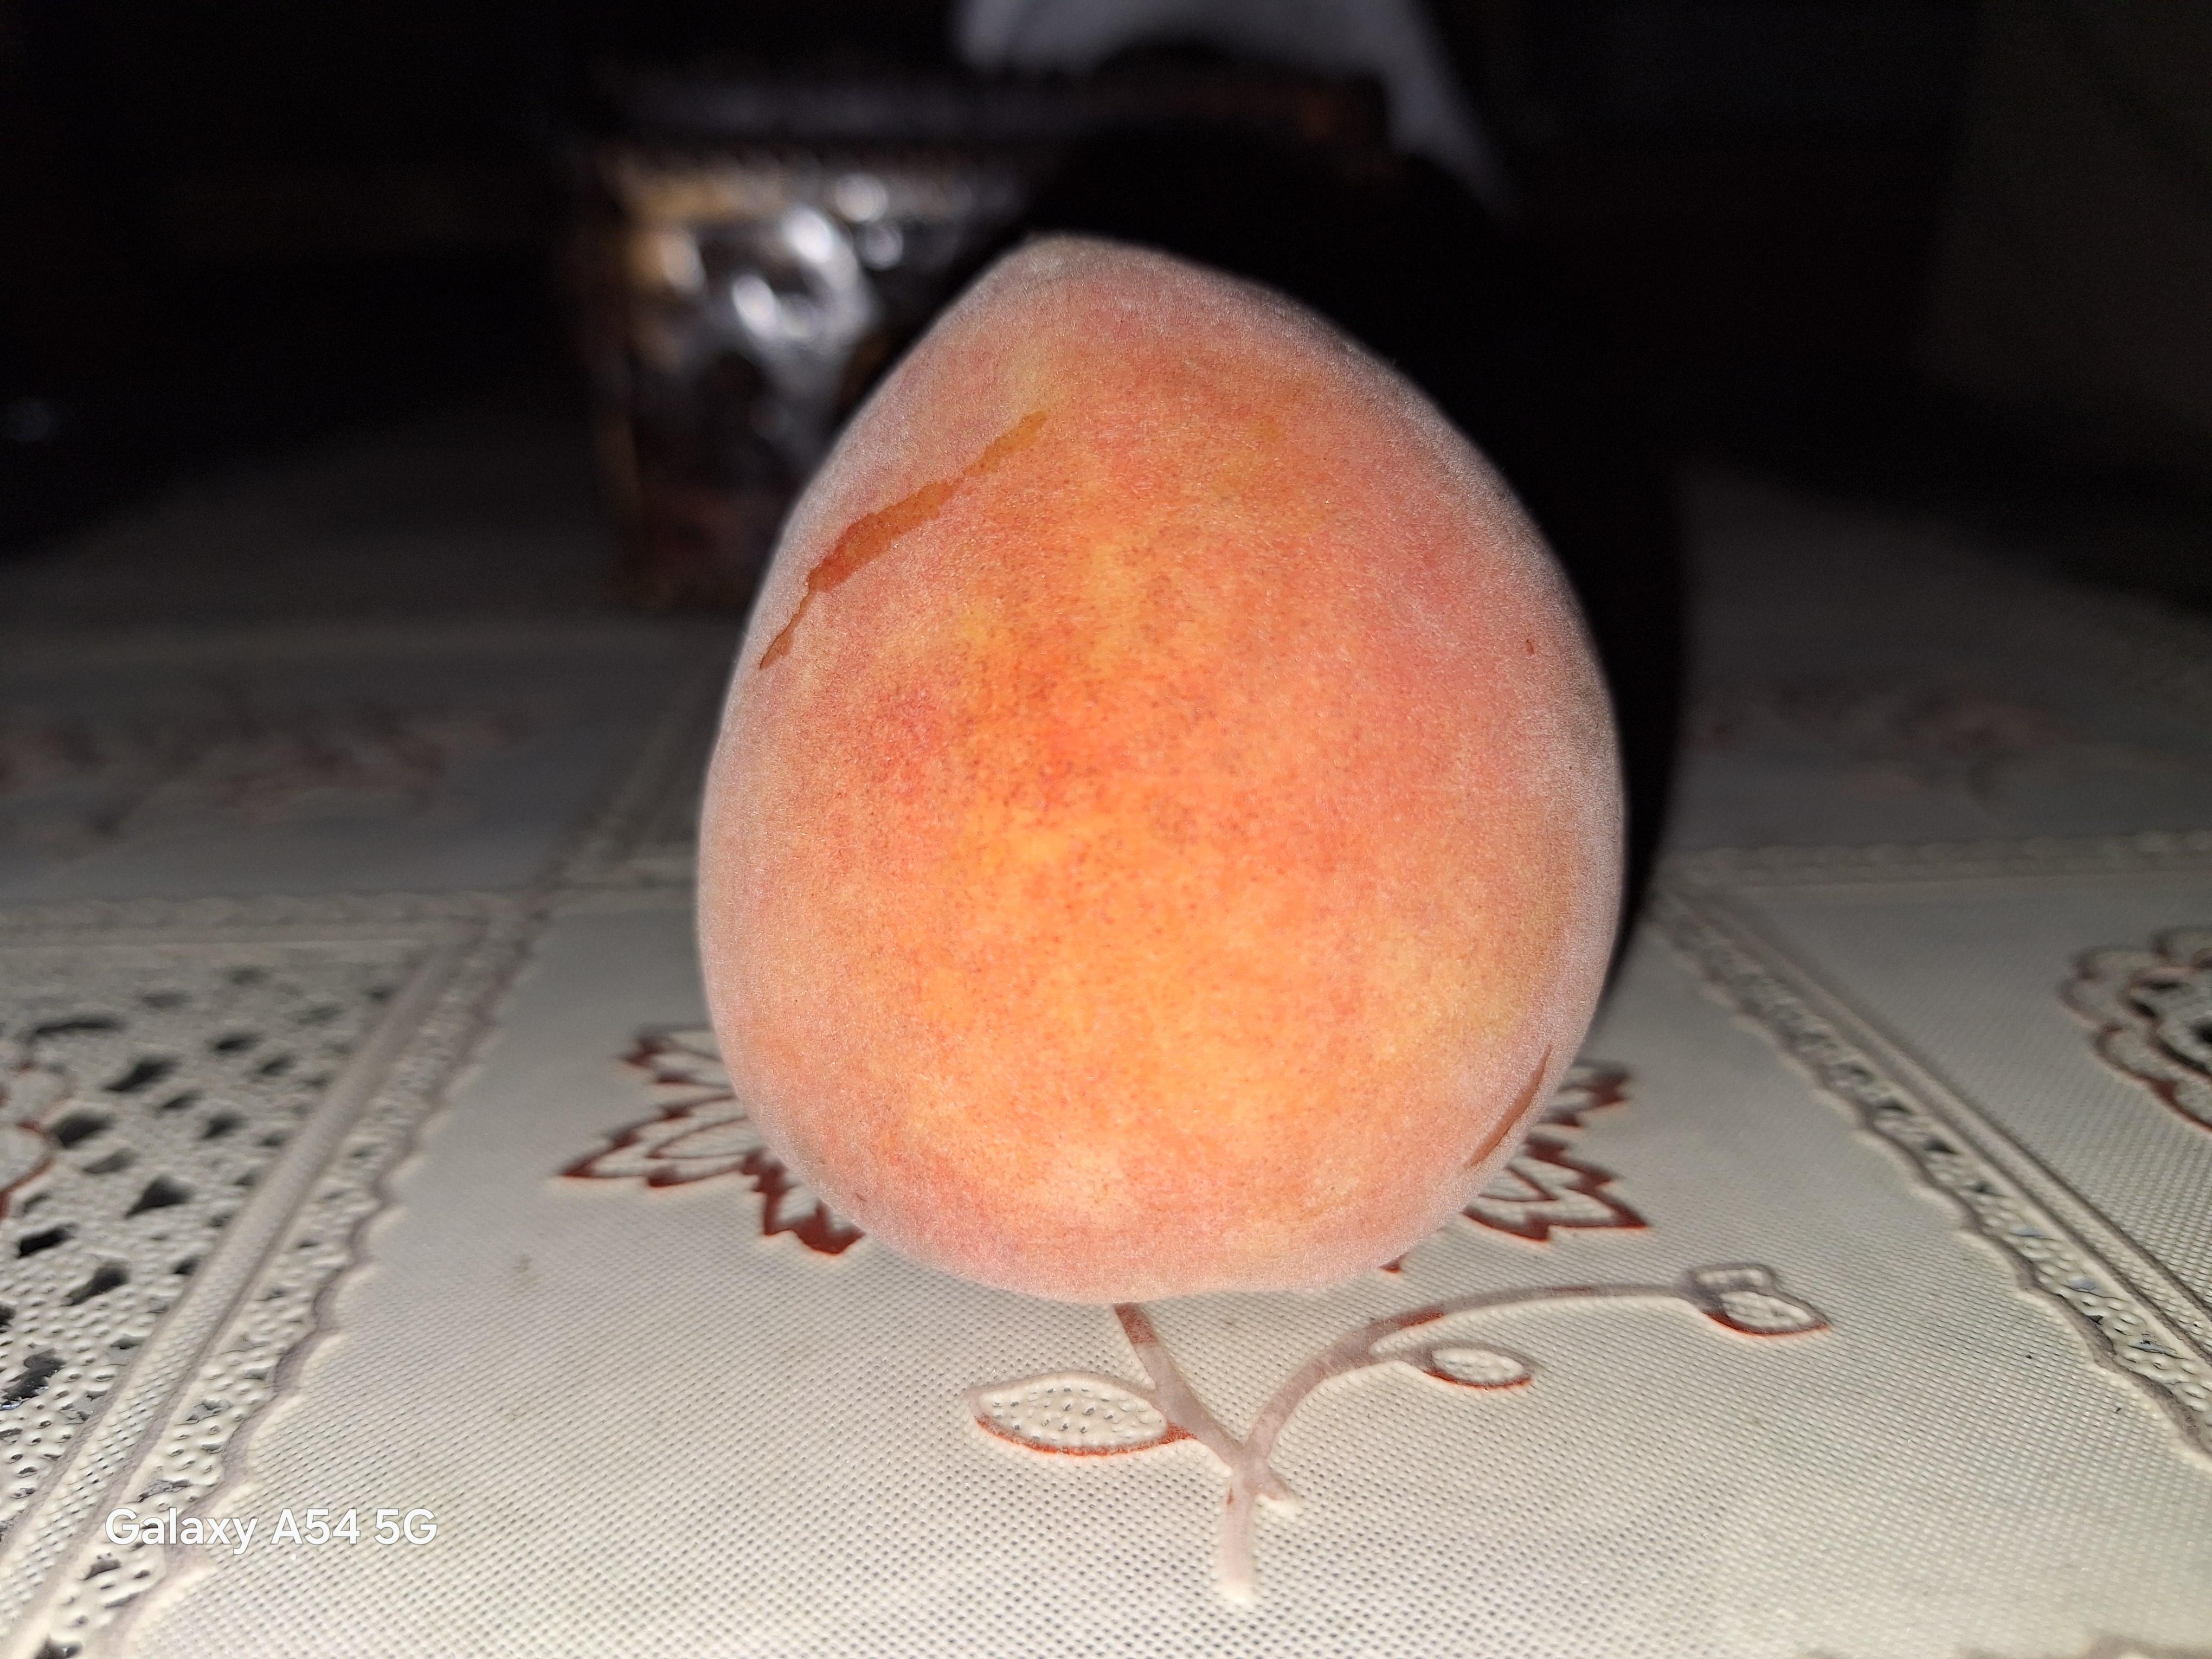non-mango: (693, 207, 1630, 1312)
